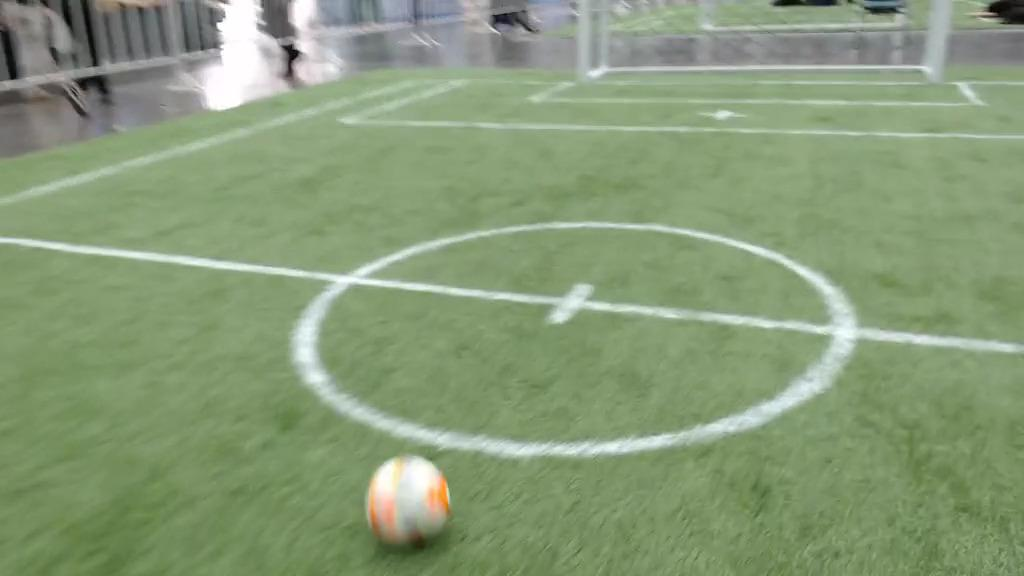ball: (366, 456, 451, 550)
